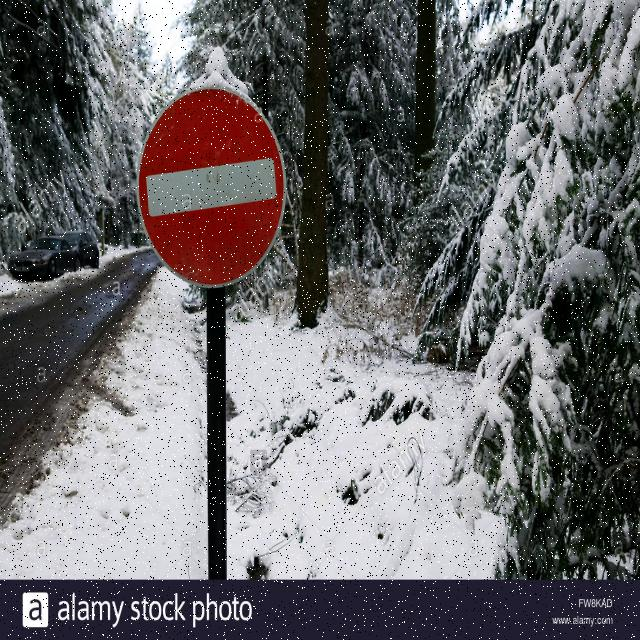no entry: (137, 86, 286, 282)
